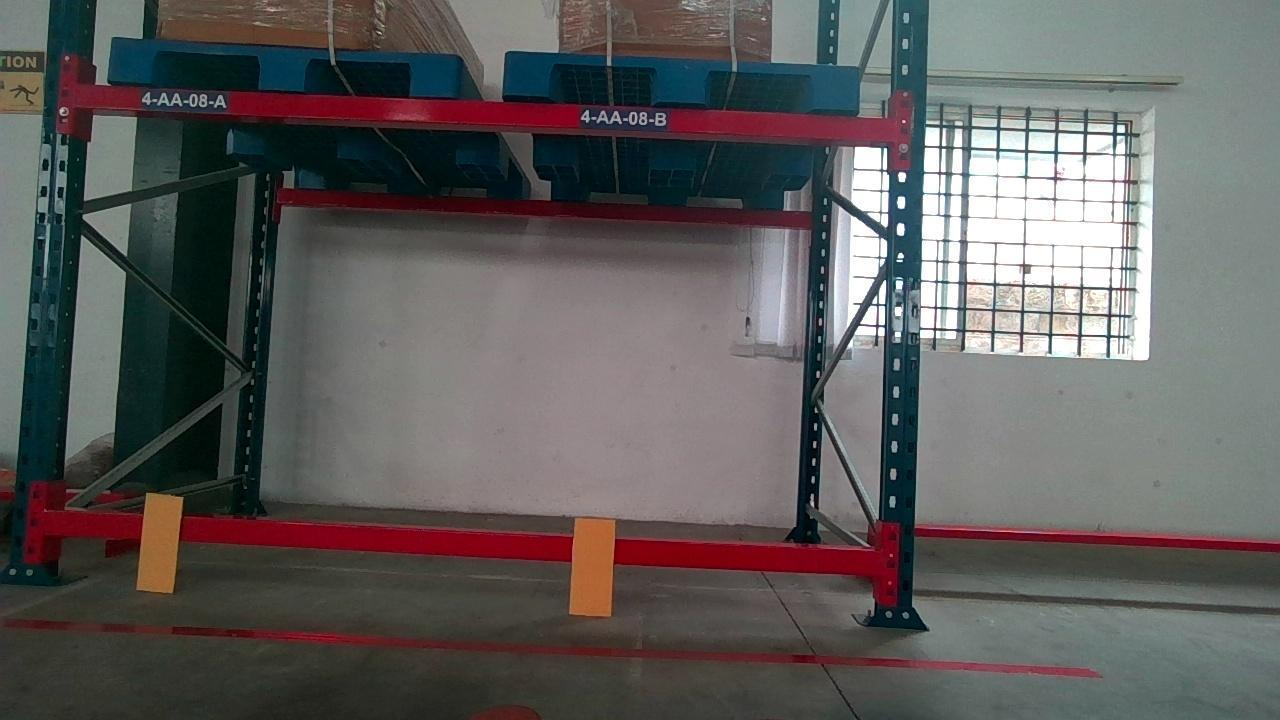h_rack: (32, 515, 889, 574), (76, 85, 904, 144)
orange_strip: (136, 493, 181, 590), (569, 517, 614, 614)
red_line: (0, 619, 1101, 676)
small_pallet: (509, 54, 860, 106), (111, 43, 455, 91)
